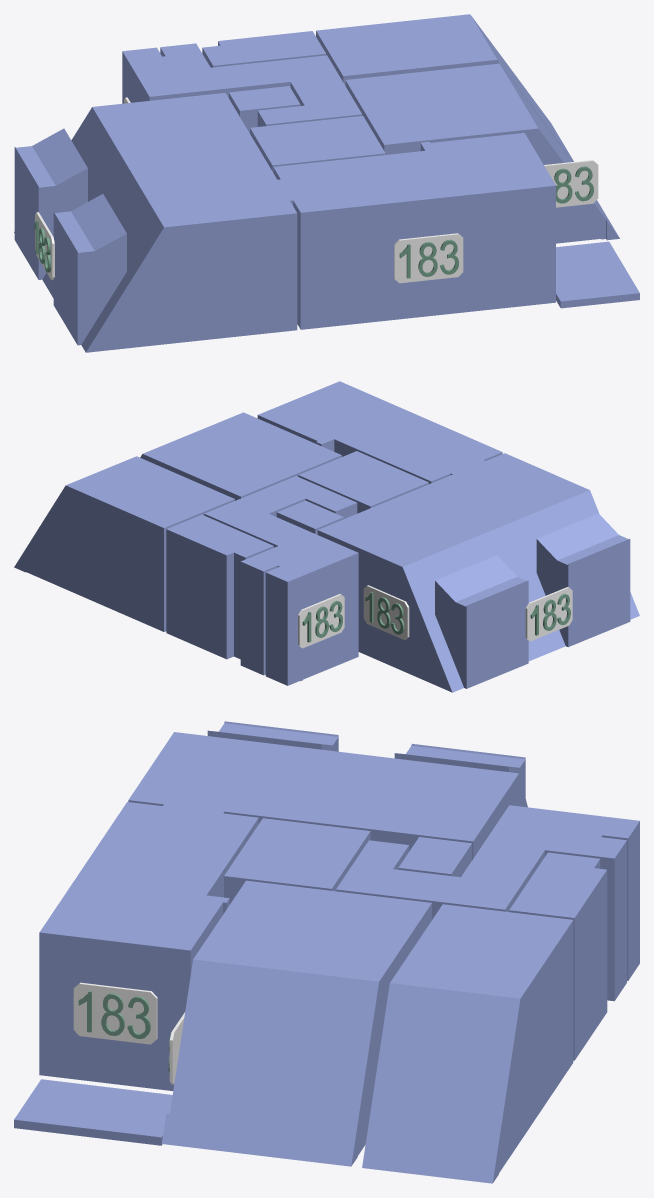
The picture shows the model from 3 angles, top to bottom: view 1: azimuth 30°, elevation 25°; view 2: azimuth 150°, elevation 25°; view 3: azimuth 270°, elevation 25°; orthographic projection. The views are drawn at different scales.
Visible parts, largest first — view 1: g_0, g_1, g_2, g_5, g_3, g_4, g_8, g_7, g_32, g_6, g_28, g_16; view 2: g_0, g_3, g_5, g_1, g_7, g_2, g_4, g_24, g_16, g_12, g_6; view 3: g_2, g_3, g_1, g_0, g_5, g_7, g_4, g_8, g_20, g_6.
Boxes of the visible parts, <box> form: g_0: <box>14,92,297,352</box>; g_1: <box>273,133,555,329</box>; g_2: <box>345,63,619,243</box>; g_5: <box>122,43,362,126</box>; g_3: <box>316,14,573,161</box>; g_4: <box>250,116,385,172</box>; g_8: <box>556,241,639,308</box>; g_7: <box>202,31,326,67</box>; g_32: <box>394,233,463,283</box>; g_6: <box>229,86,300,133</box>; g_28: <box>544,160,598,207</box>; g_16: <box>35,212,54,279</box>; g_0: <box>317,453,639,692</box>; g_3: <box>14,456,234,631</box>; g_5: <box>204,476,358,685</box>; g_1: <box>257,381,502,483</box>; g_7: <box>166,514,273,659</box>; g_2: <box>140,412,341,500</box>; g_4: <box>298,451,428,513</box>; g_24: <box>363,585,409,639</box>; g_16: <box>525,587,572,641</box>; g_12: <box>298,594,344,648</box>; g_6: <box>276,500,343,534</box>; g_2: <box>161,880,431,1166</box>; g_3: <box>362,904,573,1183</box>; g_1: <box>39,802,258,1090</box>; g_0: <box>128,721,527,860</box>; g_5: <box>336,805,639,1001</box>; g_7: <box>509,852,607,1060</box>; g_4: <box>224,818,370,904</box>; g_8: <box>14,1079,172,1145</box>; g_20: <box>73,982,157,1044</box>; g_6: <box>398,837,471,877</box>.
Bounding box in the file's own units: 13.31 × 2.71 × 10.12.
